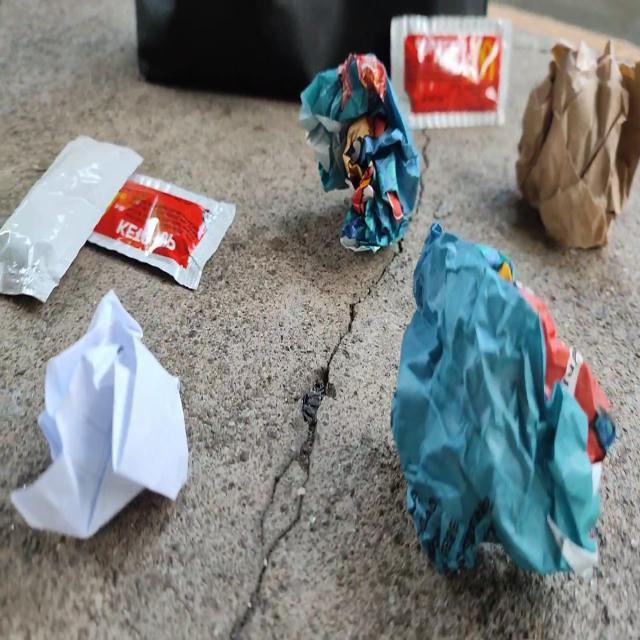paper: (382, 187, 618, 603), (3, 286, 205, 582), (296, 45, 434, 272), (513, 22, 640, 260)
